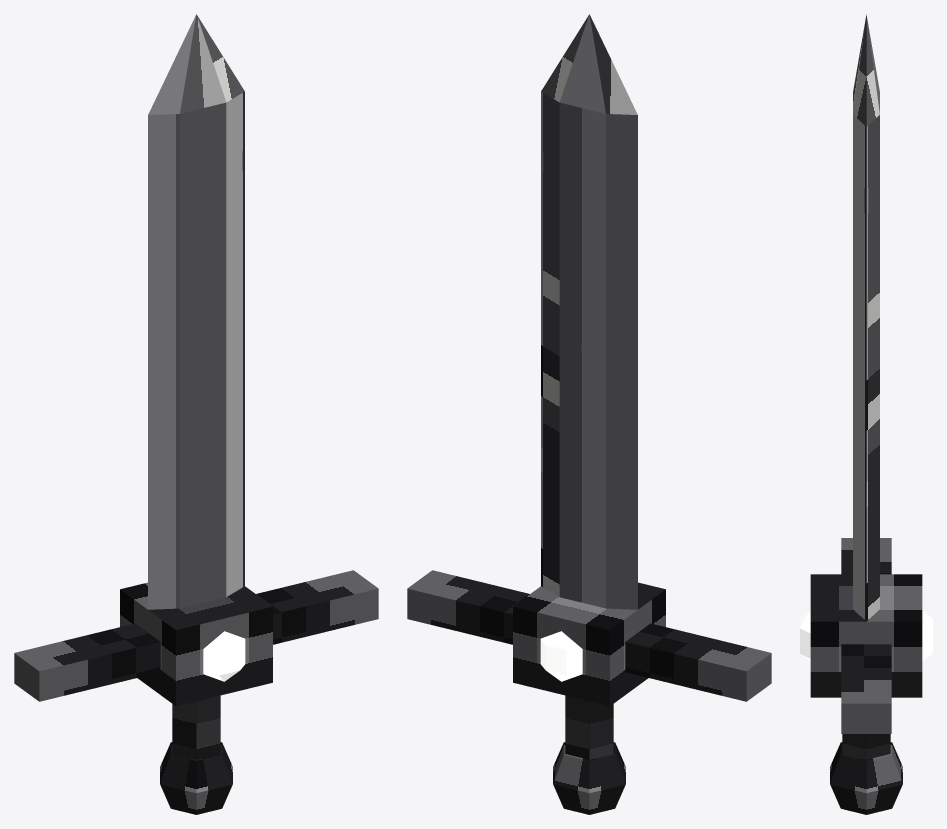
File: sword.glb
3 views of the same model, side by side, from view 1: azimuth 30°, elevation 25°; view 2: azimuth 150°, elevation 25°; view 3: azimuth 270°, elevation 25° (orthographic).
Parts seen in each view (by area): view 1: blade, guard, guard_c, pommel, grip, gem; view 2: blade, guard, guard_c, pommel, grip, gem~z; view 3: blade, guard_c, guard, pommel, grip, gem, gem~z.
Part boxes in pixels (box(x1,y1,x2,y2)): blade: box(148, 14, 244, 609); guard: box(14, 570, 378, 701); guard_c: box(120, 582, 272, 706); pommel: box(160, 742, 232, 814); grip: box(172, 695, 220, 759); gem: box(203, 631, 245, 681); blade: box(541, 14, 637, 609); guard: box(407, 570, 771, 701); guard_c: box(513, 582, 665, 706); pommel: box(553, 742, 625, 814); grip: box(565, 695, 613, 759); gem~z: box(540, 631, 582, 681); blade: box(853, 14, 879, 621); guard_c: box(810, 574, 922, 697); guard: box(841, 538, 891, 733); pommel: box(830, 742, 902, 814); grip: box(842, 734, 890, 759); gem: box(800, 611, 810, 660); gem~z: box(922, 611, 932, 660).
Bounding box in the file's own units: 0.875 × 1.97 × 0.2969.
5 materials, 5 textured.
